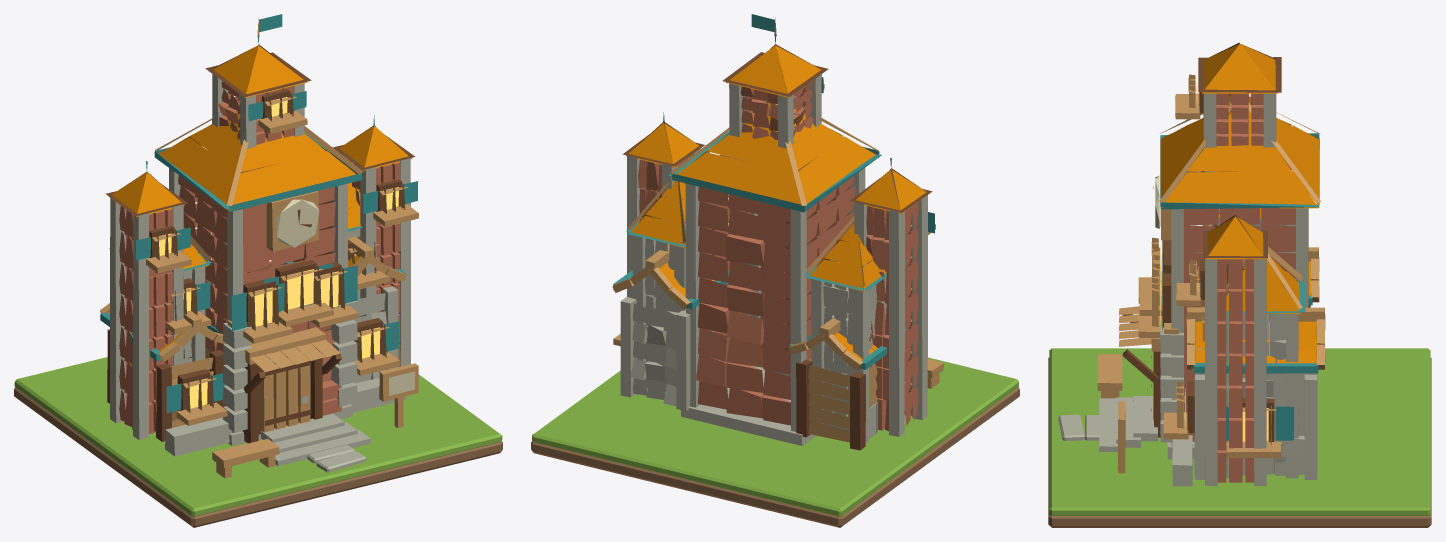
File: town_hall_l09_active_LOD2.glb
The picture shows the model from 3 angles, left to right: view 1: azimuth 30°, elevation 25°; view 2: azimuth 150°, elevation 25°; view 3: azimuth 270°, elevation 25°; orthographic projection. The views are drawn at different scales.
Parts seen in each view (by area): view 1: town_hall_l09_active_foundation.001, town_hall_l09_active_grass_tile.001, town_hall_l09_active_earth_tile.001, town_hall_l09_active_path_stone.005; view 2: town_hall_l09_active_foundation.001, town_hall_l09_active_grass_tile.001, town_hall_l09_active_earth_tile.001; view 3: town_hall_l09_active_foundation.001, town_hall_l09_active_grass_tile.001, town_hall_l09_active_earth_tile.001, town_hall_l09_active_path_stone.005.
Part boxes in pixels (x1,y1,x2,y2): town_hall_l09_active_foundation.001: (99, 14, 418, 478); town_hall_l09_active_grass_tile.001: (14, 357, 502, 516); town_hall_l09_active_earth_tile.001: (14, 387, 502, 527); town_hall_l09_active_path_stone.005: (316, 450, 366, 472); town_hall_l09_active_foundation.001: (612, 14, 943, 450); town_hall_l09_active_grass_tile.001: (532, 357, 1018, 516); town_hall_l09_active_earth_tile.001: (531, 387, 1019, 527); town_hall_l09_active_foundation.001: (1097, 42, 1325, 486); town_hall_l09_active_grass_tile.001: (1049, 348, 1430, 515); town_hall_l09_active_earth_tile.001: (1048, 357, 1431, 527); town_hall_l09_active_path_stone.005: (1058, 414, 1084, 440).
Bounding box in the file's own units: 3.6 × 4.5 × 3.6.
